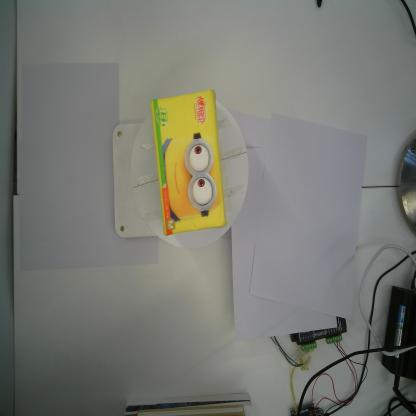Tissue: (149, 86, 230, 238)
